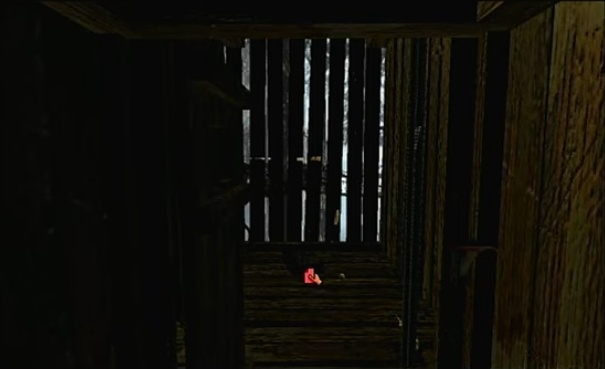Keep: (301, 263, 325, 287)
